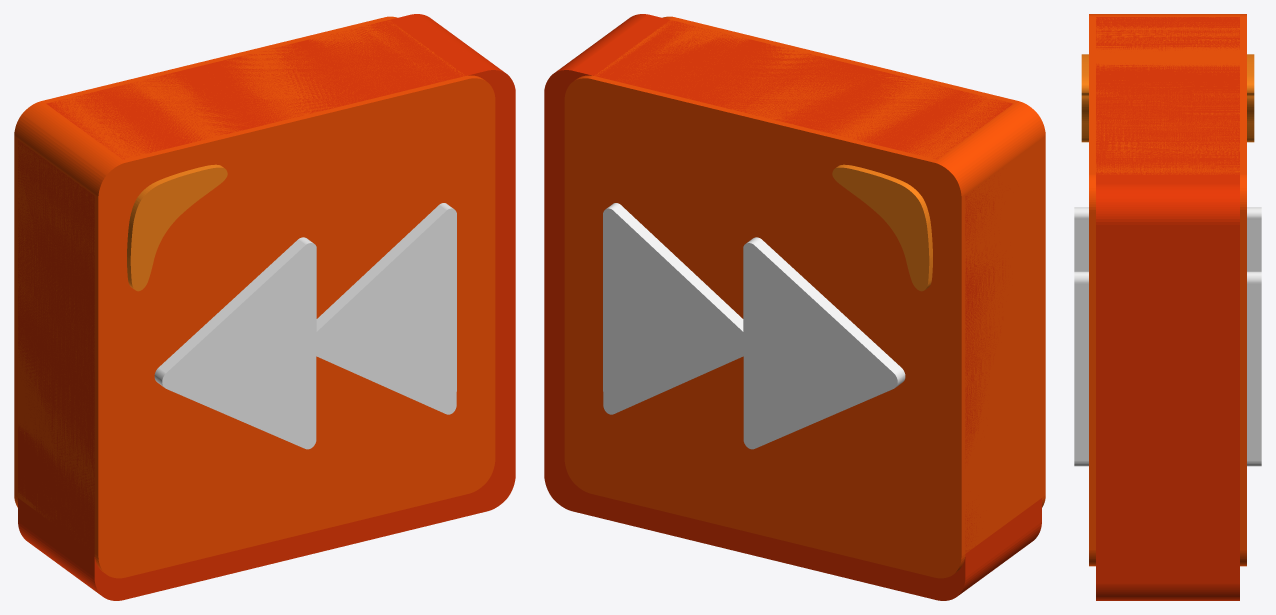
3 views of the same model, side by side, from view 1: azimuth 30°, elevation 25°; view 2: azimuth 150°, elevation 25°; view 3: azimuth 270°, elevation 25° (orthographic). The views are drawn at different scales.
Parts seen in each view (by area): view 1: U+23EA_layer01_obj00, U+23EA_layer00_obj00, U+23EA_layer03_obj00, U+23EA_layer02_obj00; view 2: U+23EA_layer01_obj00, U+23EA_layer00_obj00, U+23EA_layer03_obj00, U+23EA_layer02_obj00; view 3: U+23EA_layer00_obj00, U+23EA_layer01_obj00, U+23EA_layer03_obj00, U+23EA_layer02_obj00.
Boxes of the visible parts, <box> form: U+23EA_layer01_obj00: <box>14,16,495,578</box>; U+23EA_layer00_obj00: <box>18,14,515,600</box>; U+23EA_layer03_obj00: <box>154,203,456,449</box>; U+23EA_layer02_obj00: <box>127,164,227,291</box>; U+23EA_layer01_obj00: <box>564,16,1045,578</box>; U+23EA_layer00_obj00: <box>544,14,1041,600</box>; U+23EA_layer03_obj00: <box>603,203,905,449</box>; U+23EA_layer02_obj00: <box>832,164,932,291</box>; U+23EA_layer00_obj00: <box>1096,17,1239,600</box>; U+23EA_layer01_obj00: <box>1089,14,1246,566</box>; U+23EA_layer03_obj00: <box>1074,207,1261,466</box>; U+23EA_layer02_obj00: <box>1081,54,1254,142</box>.
Size of the model in its own units: 0.3175 by 0.3174 by 0.13.
